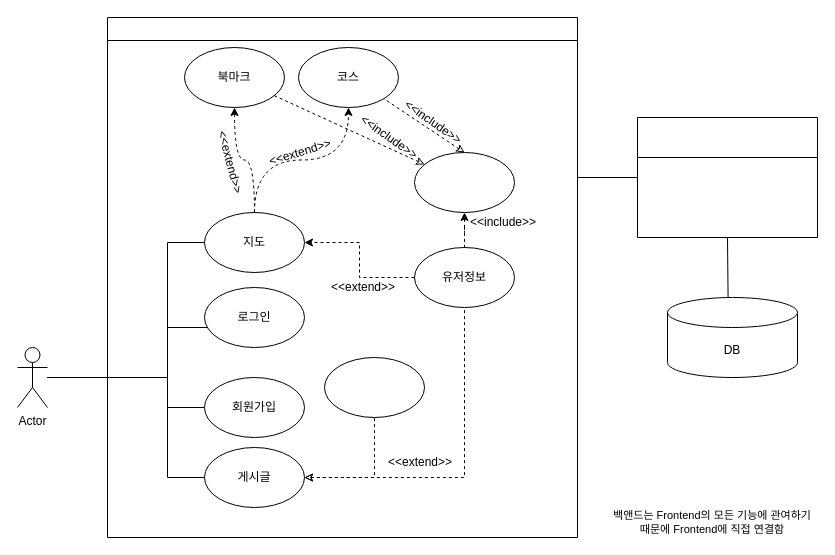
Image size: 835x555. Some labels were removed from this diagram. Here are the shapes that lost their labels. From the top down, the box of each, then its label:
(414, 152, 514, 212): 챗봇
(636, 116, 818, 238): <<Actor>> BackEnd
(106, 16, 578, 538): Frontend
(324, 356, 424, 418): 댓글
